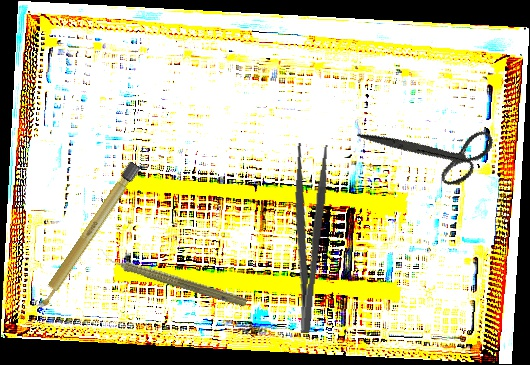Dressing Forceps: (280, 142, 331, 334)
Handpiece: (95, 247, 250, 310)
Iris Scissors: (356, 87, 504, 213)
Scalpel Handle: (32, 160, 142, 313)
